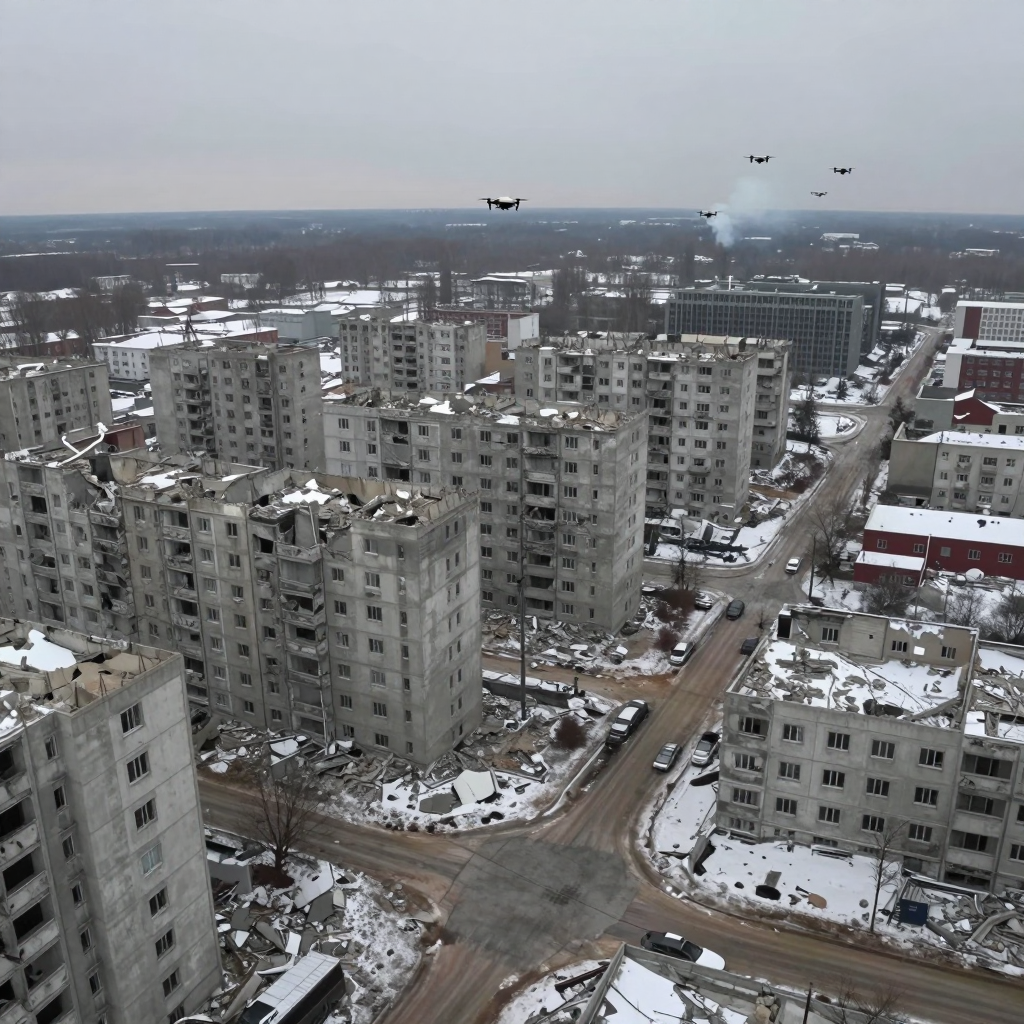drone: (478, 197, 529, 211), (743, 155, 776, 164), (828, 167, 856, 175), (512, 198, 528, 211), (696, 210, 718, 218), (810, 192, 828, 198)
